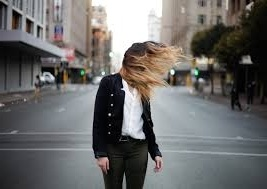not_fallen: (92, 42, 175, 189)
